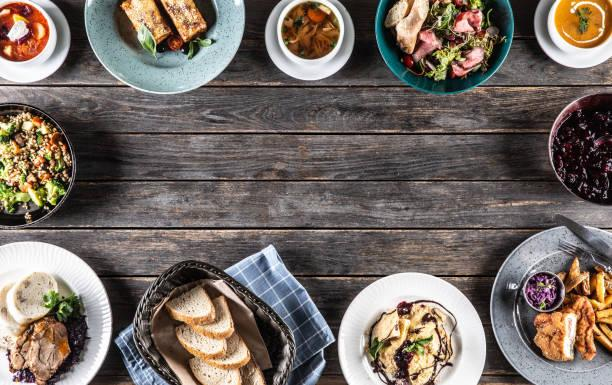Braised Crucian Carp: (132, 259, 295, 384), (488, 225, 611, 383), (337, 272, 486, 385), (2, 239, 113, 384), (83, 1, 238, 96), (373, 0, 510, 96), (0, 102, 76, 224), (547, 91, 612, 206), (264, 1, 354, 81), (2, 0, 71, 83), (534, 0, 611, 68)
